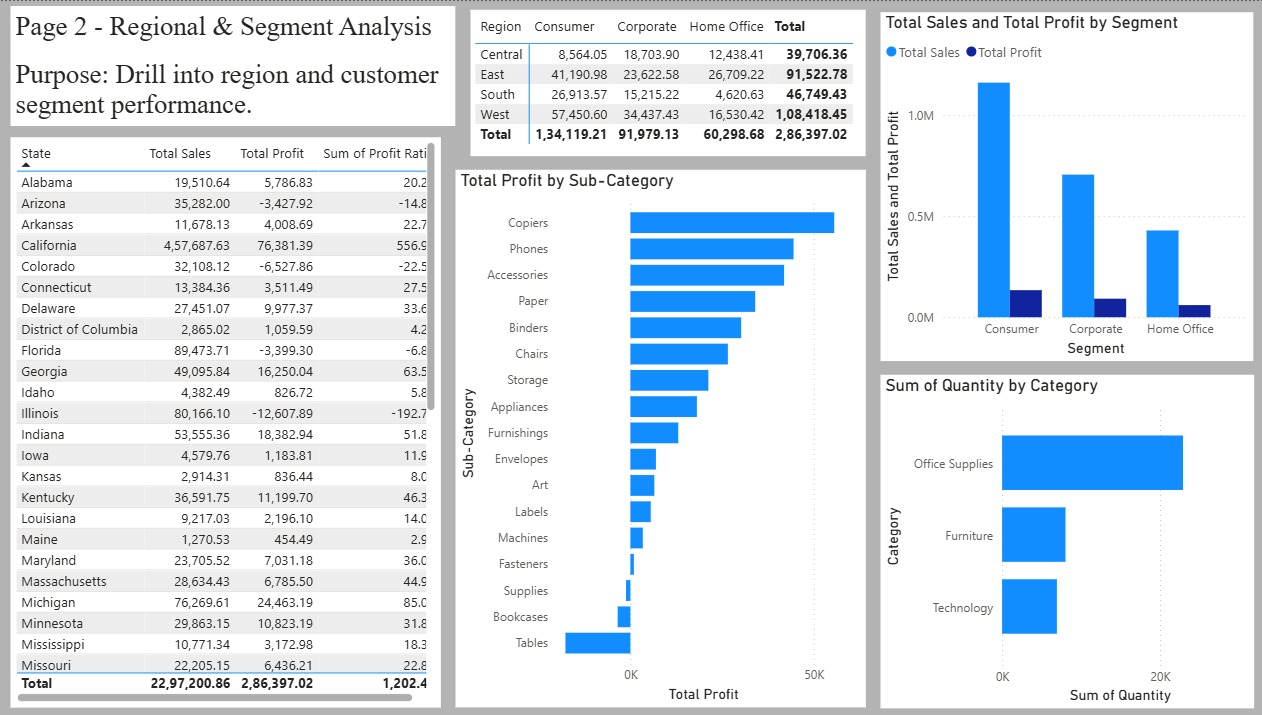

Layout of this report page (visuals, bound fields, positions):
{"tool":"powerbi","page":{"name":"Page 2","canvas":[1280,720],"ordinal":1},"visuals":[{"type":"tableEx","fields":{"Values":["SampleSuperstore.State","SampleSuperstore.Total Sales","SampleSuperstore.Total Profit","Sum(SampleSuperstore.Profit Ratio)"]},"box":[22.5,136.2,430,570],"z":0},{"type":"clusteredColumnChart","fields":{"Category":["SampleSuperstore.Segment"],"Y":["SampleSuperstore.Total Sales","SampleSuperstore.Total Profit"]},"box":[892.5,11.2,372.5,348.8],"z":1000},{"type":"pivotTable","fields":{"Rows":["SampleSuperstore.Region"],"Columns":["SampleSuperstore.Segment"],"Values":["SampleSuperstore.Total Profit"]},"box":[482.5,8.8,395,146.2],"z":2000},{"type":"barChart","fields":{"Category":["SampleSuperstore.Sub-Category"],"Y":["SampleSuperstore.Total Profit"]},"box":[467.5,168.8,410,537.5],"z":3000},{"type":"barChart","fields":{"Category":["SampleSuperstore.Category"],"Y":["Sum(SampleSuperstore.Quantity)"]},"box":[892.5,373.8,373.8,333.8],"z":4000},{"type":"textbox","box":[22.5,5,445,120],"z":5000}]}

Visuals, with their boxes in screenshot pixels (x1, y1, x2, y2), scaled from the page's 1280x720 canvas onto the 1262x715 screenshot:
tableEx - SampleSuperstore.State x SampleSuperstore.Total Sales: [22, 135, 446, 701]
clusteredColumnChart - SampleSuperstore.Segment x SampleSuperstore.Total Sales: [880, 11, 1247, 358]
pivotTable - SampleSuperstore.Region x SampleSuperstore.Segment: [476, 9, 865, 154]
barChart - SampleSuperstore.Sub-Category x SampleSuperstore.Total Profit: [461, 168, 865, 701]
barChart - SampleSuperstore.Category x Sum(SampleSuperstore.Quantity): [880, 371, 1248, 703]
textbox: [22, 5, 461, 124]
